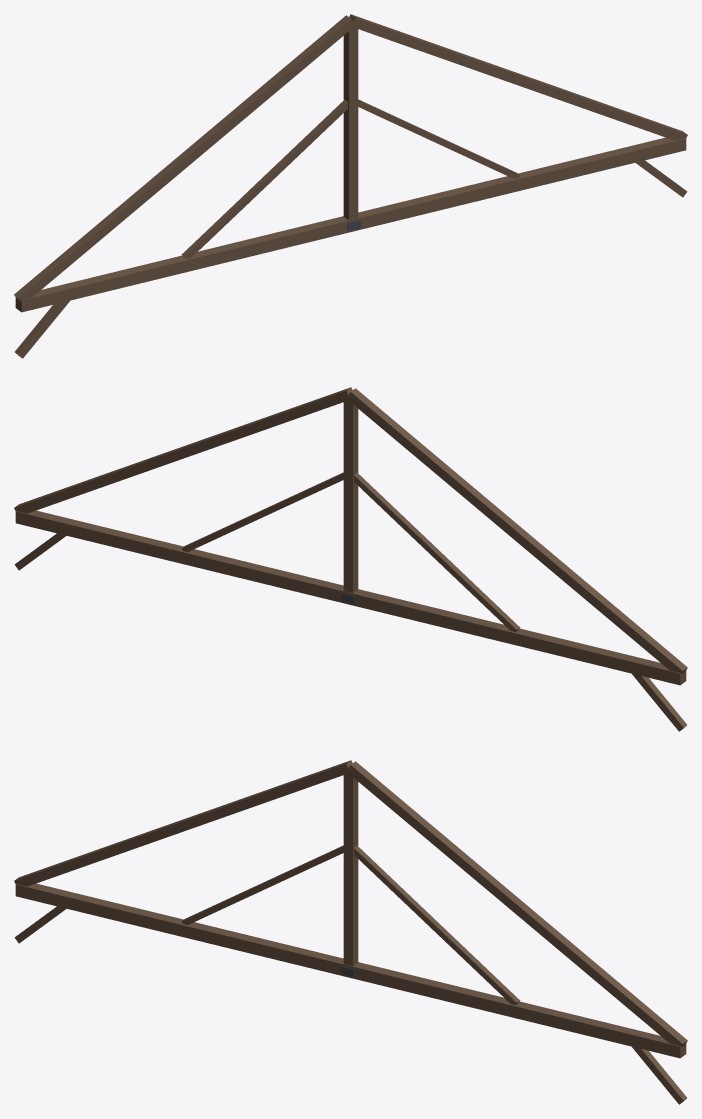
File: truss_20.glb
The picture shows the model from 3 angles, top to bottom: view 1: azimuth 30°, elevation 25°; view 2: azimuth 150°, elevation 25°; view 3: azimuth 330°, elevation 25°; orthographic projection.
Parts seen in each view (by area): view 1: truss_20; view 2: truss_20; view 3: truss_20.
Boxes of the visible parts, x1,y1,x2,y2 form: truss_20: (14, 14, 687, 358); truss_20: (14, 387, 687, 731); truss_20: (14, 760, 687, 1104).
Size of the model in its own units: 20.14 by 7.49 by 0.36.
